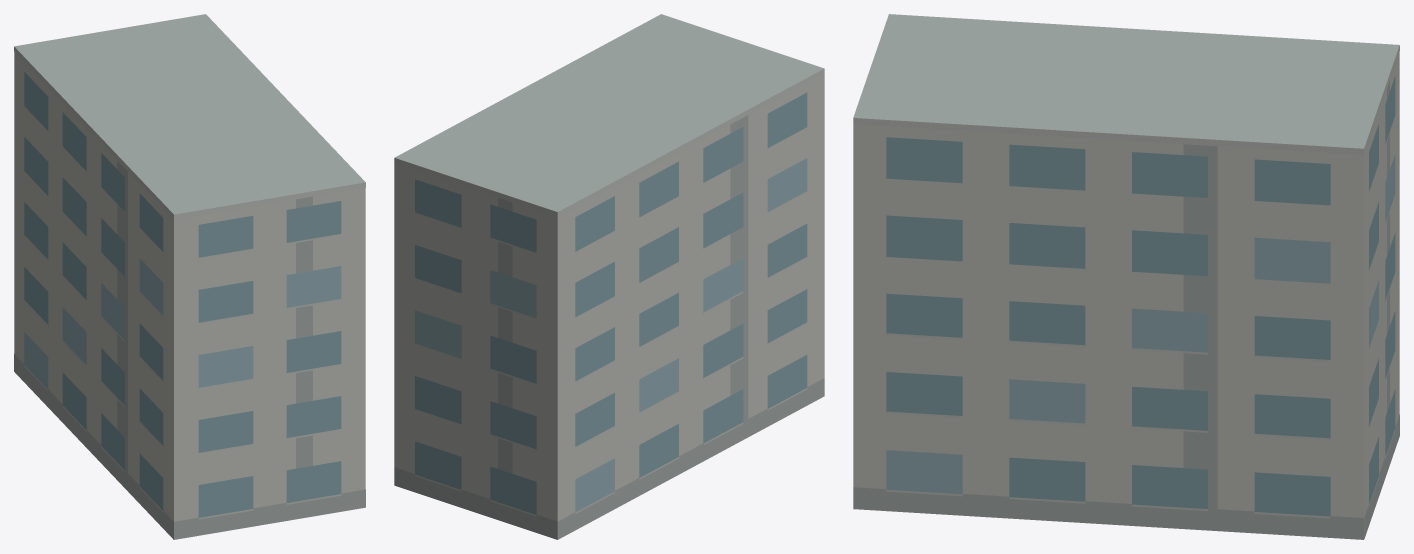
File: survey-upis-32764066.glb
3 renders of one model, left to right at view 1: azimuth 30°, elevation 25°; view 2: azimuth 150°, elevation 25°; view 3: azimuth 270°, elevation 25°, orthographic. The views are drawn at different scales.
Parts seen in each view (by area): view 1: survey-upis-32764066.tmp; view 2: survey-upis-32764066.tmp; view 3: survey-upis-32764066.tmp.
Part boxes in pixels (x1=…): survey-upis-32764066.tmp: x1=14, y1=14, x2=365, y2=539; survey-upis-32764066.tmp: x1=394, y1=14, x2=824, y2=539; survey-upis-32764066.tmp: x1=853, y1=14, x2=1399, y2=539.
Bounding box in the file's own units: 11.12 × 15.05 × 19.07.
